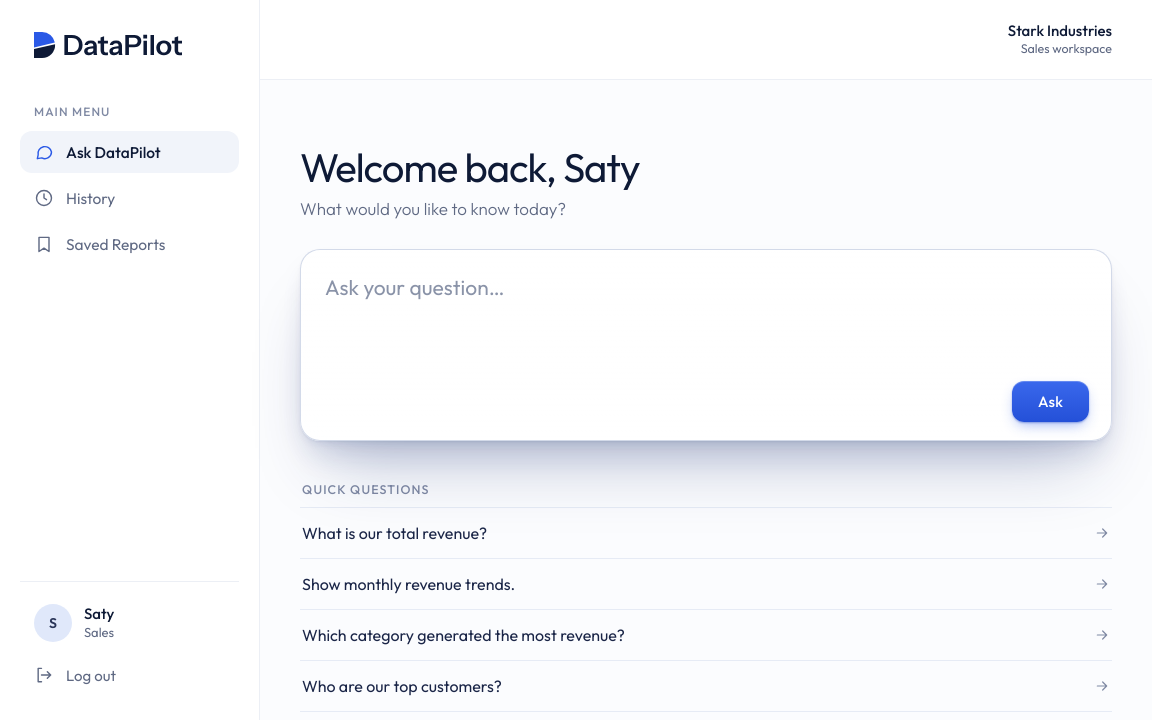
Scenario: the list › shows questions as text, never as markup
The image size is (1152, 720).
What coordinates should you click on to do the following:
click the button "History"
I would click on:
 (130, 198)
Its box is [20,177,239,219].
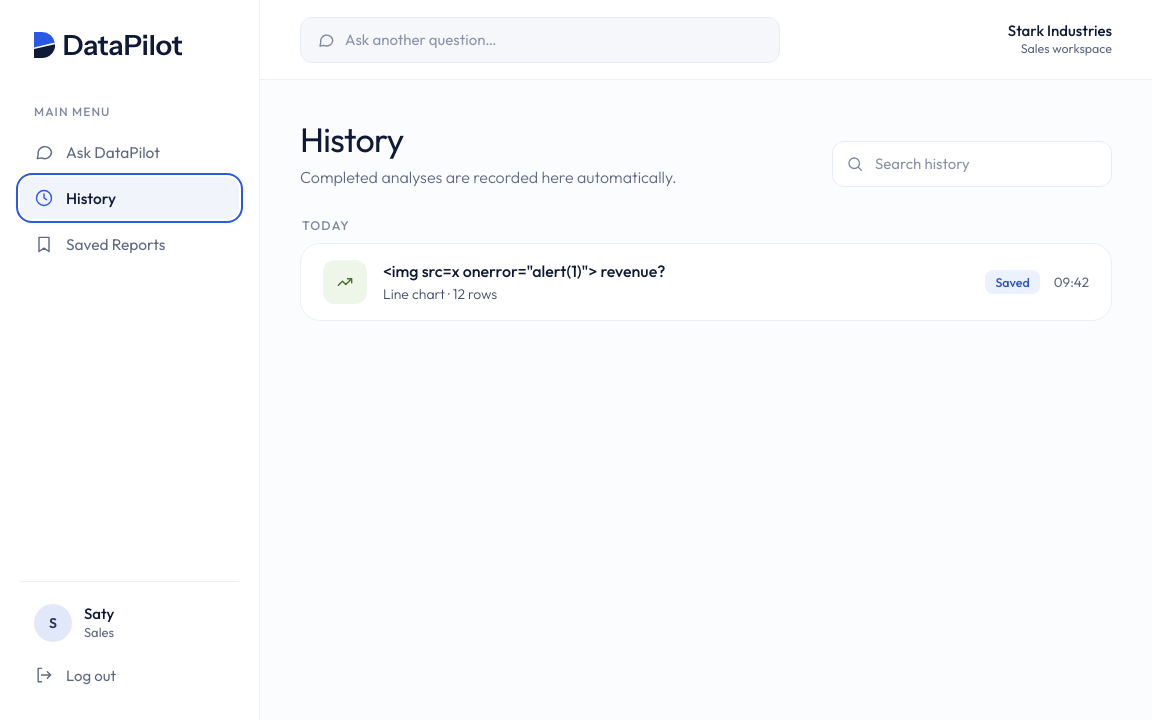
Check: the heading "History" is shown, box [300,118,404,161]
Check: the text "<img src=x onerror=\"alert(1)\"> revenue?" is shown, box [383,261,665,281]
